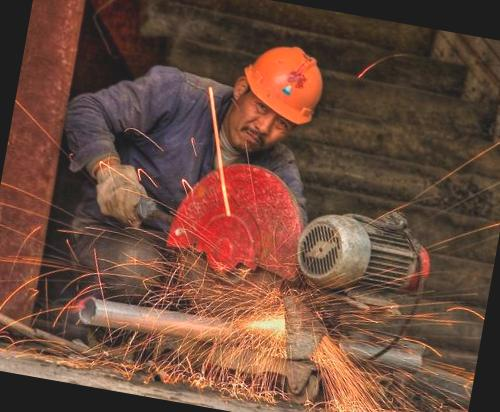person: (36, 14, 394, 366)
